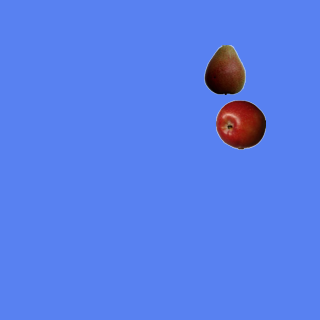Apple Braeburn: (215, 99, 265, 149)
Pear Forelle: (199, 44, 249, 94)
